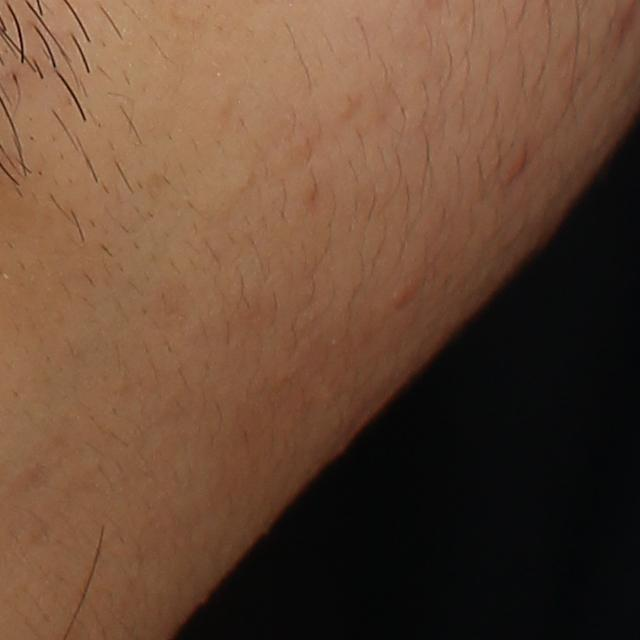papule: (508, 147, 530, 179)
